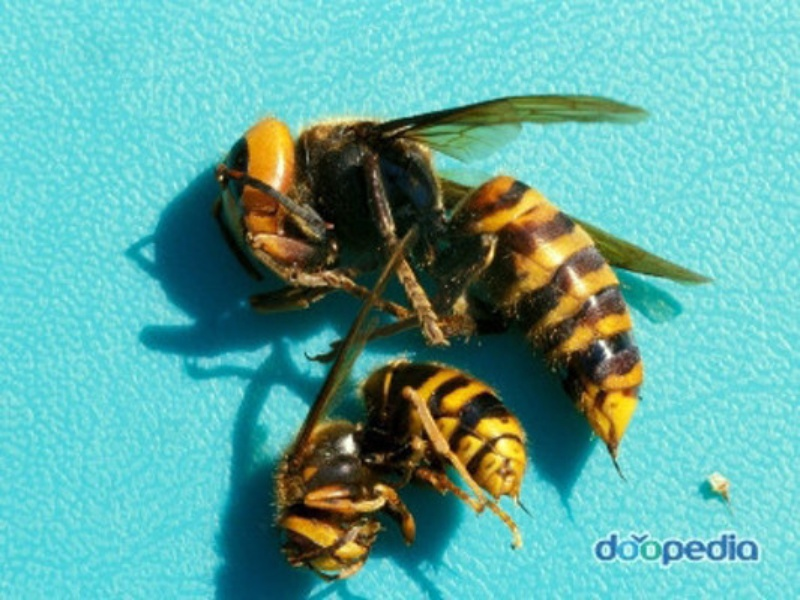asian_giant_hornet: (213, 104, 645, 454), (263, 350, 534, 600)
